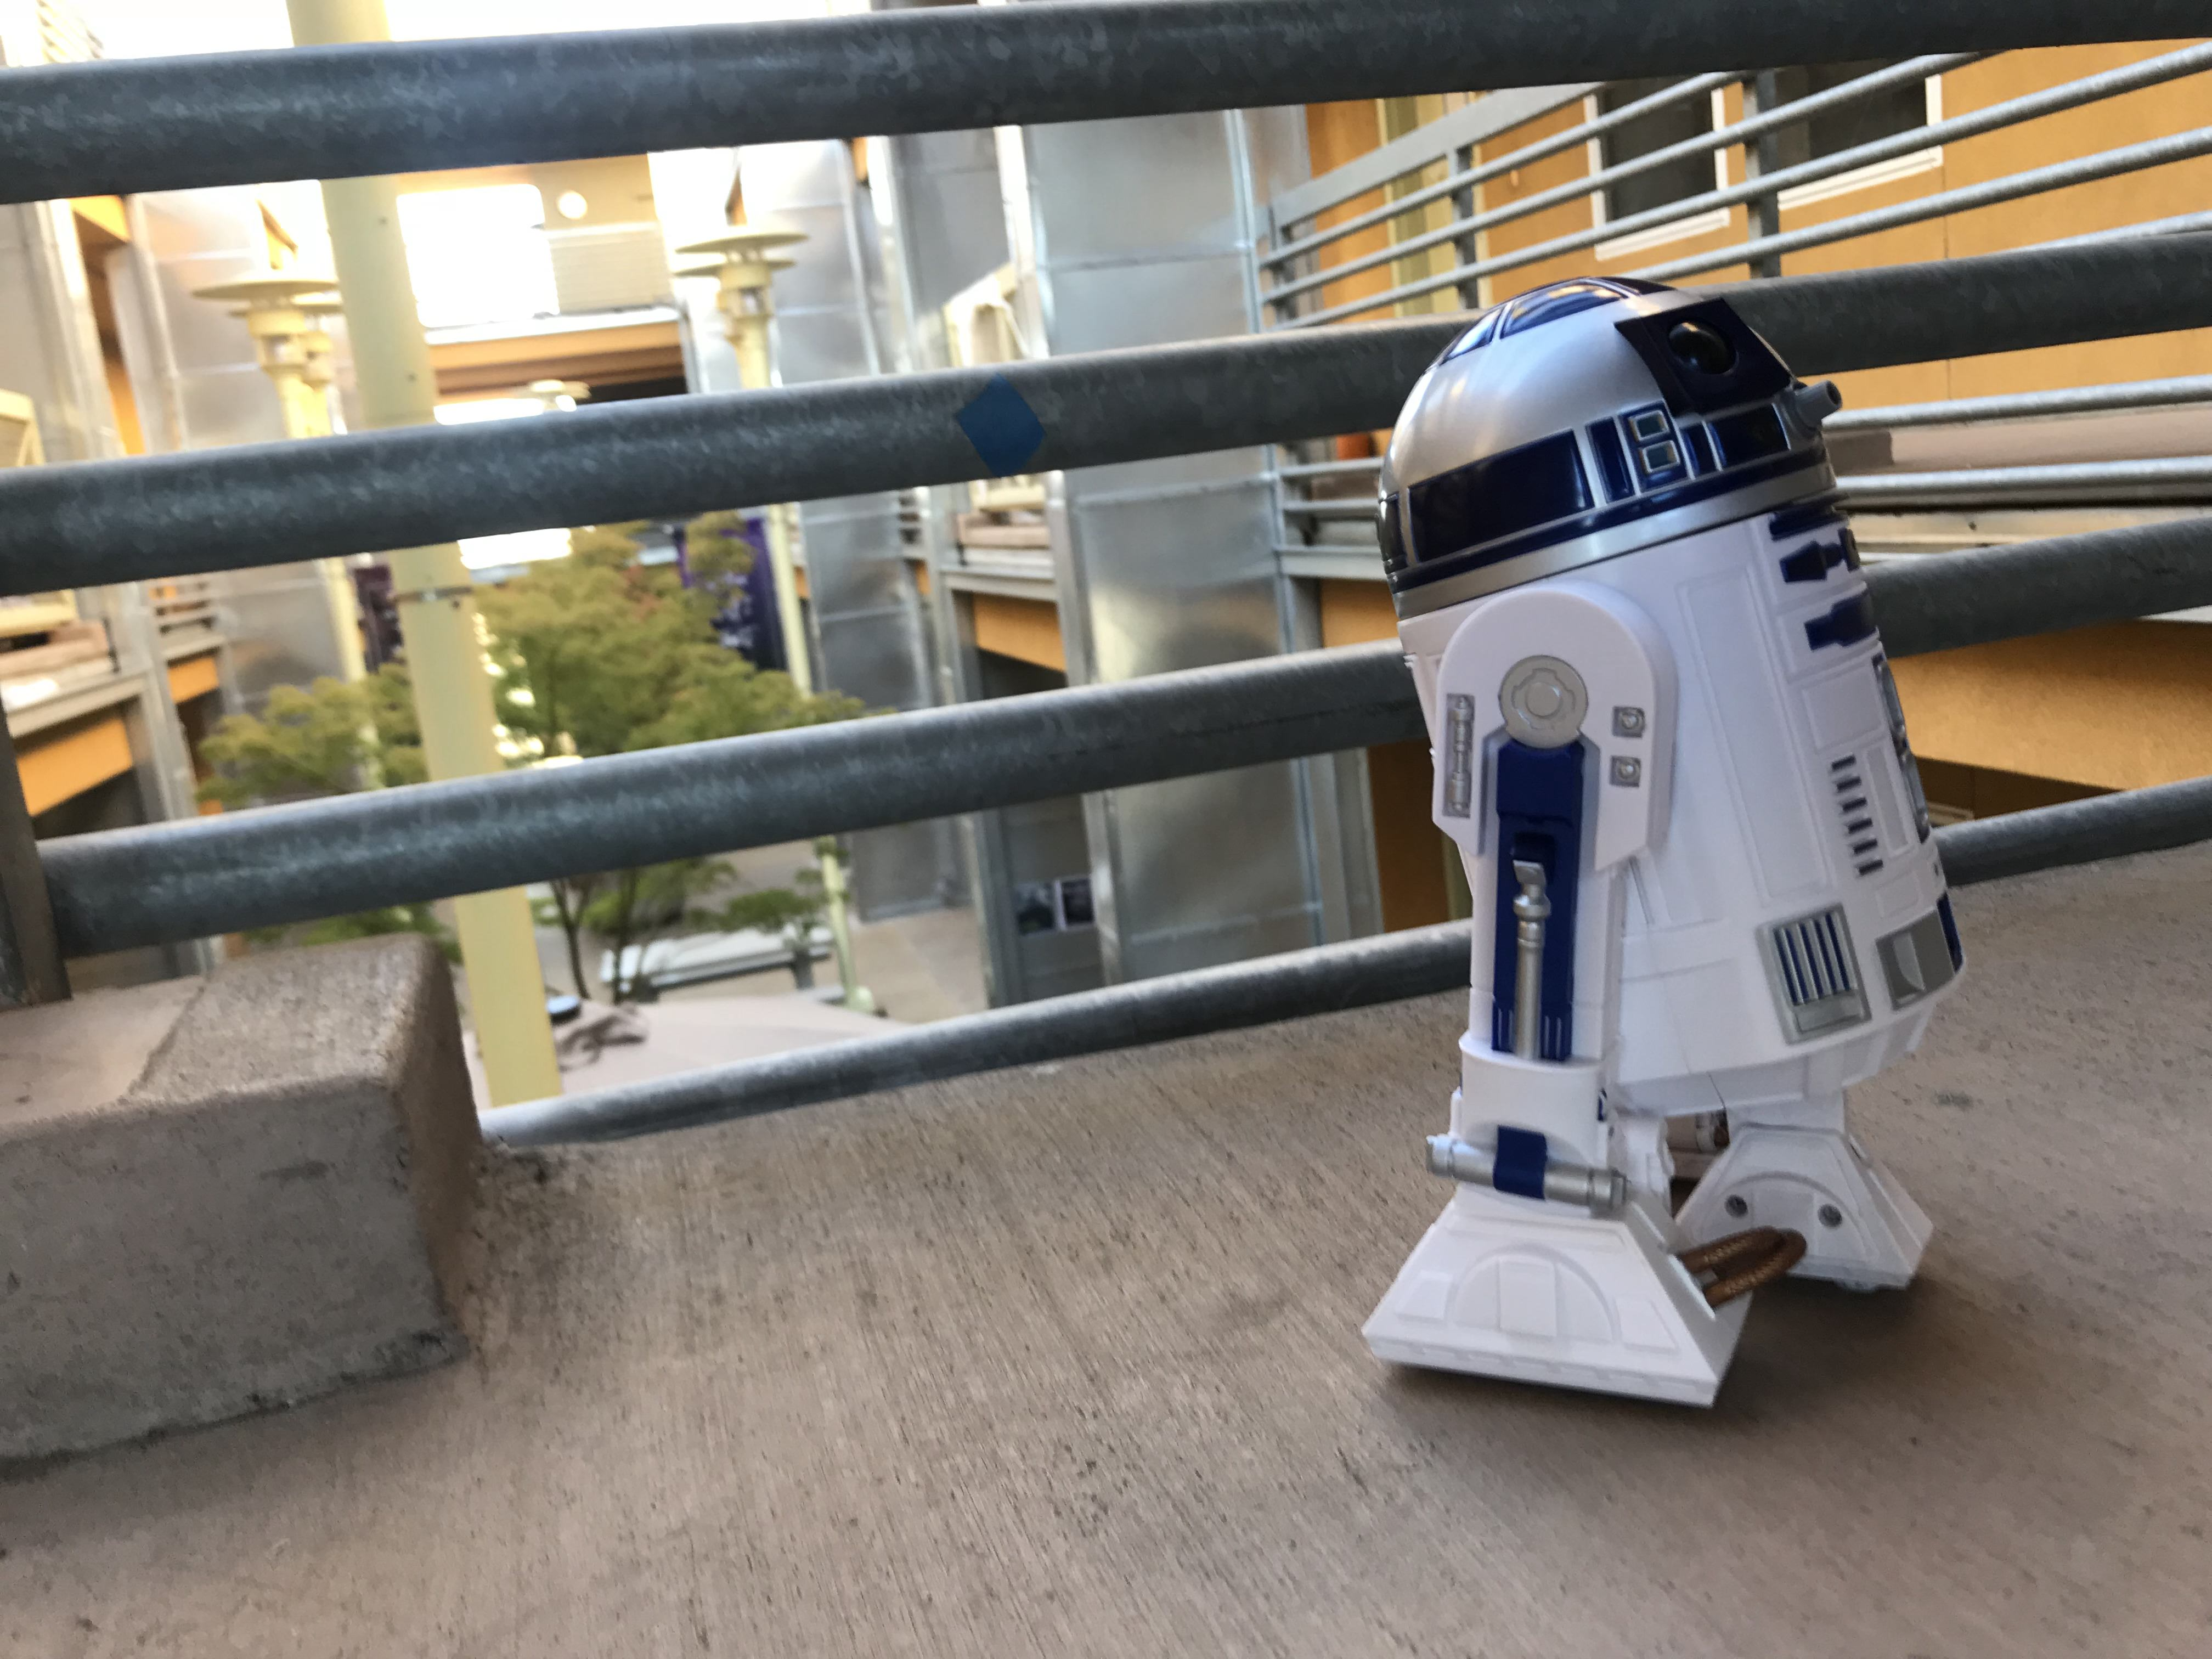r2d2: (1359, 274, 1966, 1406)
